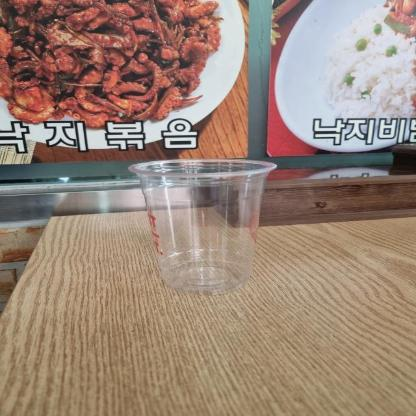Plastic Cup: (125, 155, 279, 294)
